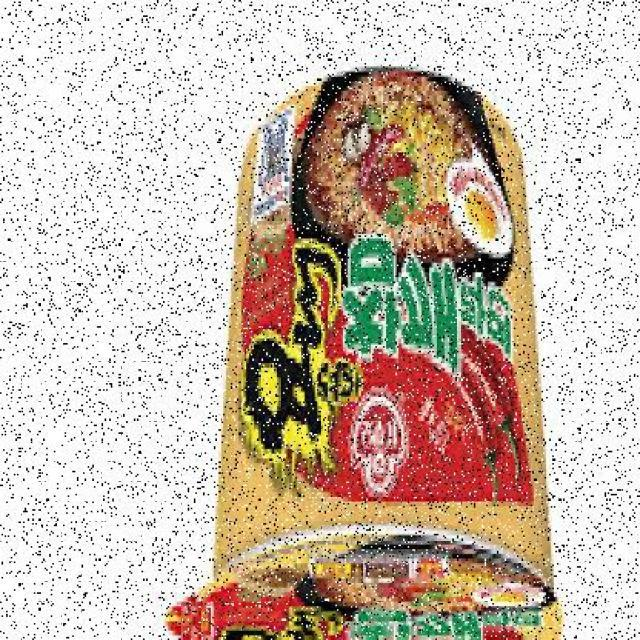Miscellaneous: (208, 91, 546, 640)
